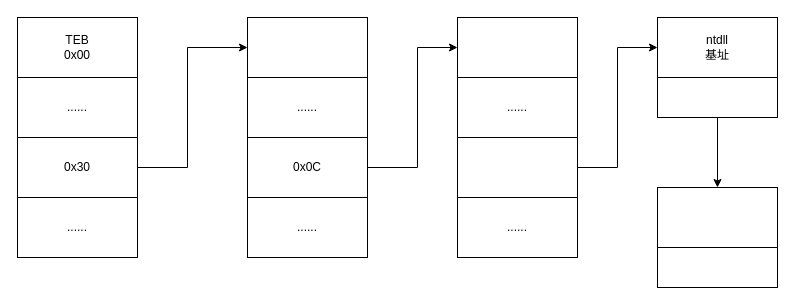
The diagram is 795 pixels wide and 305 high, and some of its shapes have lost their labels. Here are the shapes that lost their labels. From the top down, the centre of each, then its label:
the point at 307,47: PEB 0x00
the point at 517,47: LDR 0x00
the point at 517,167: 0x1C
the point at 717,217: kernel32 基址
